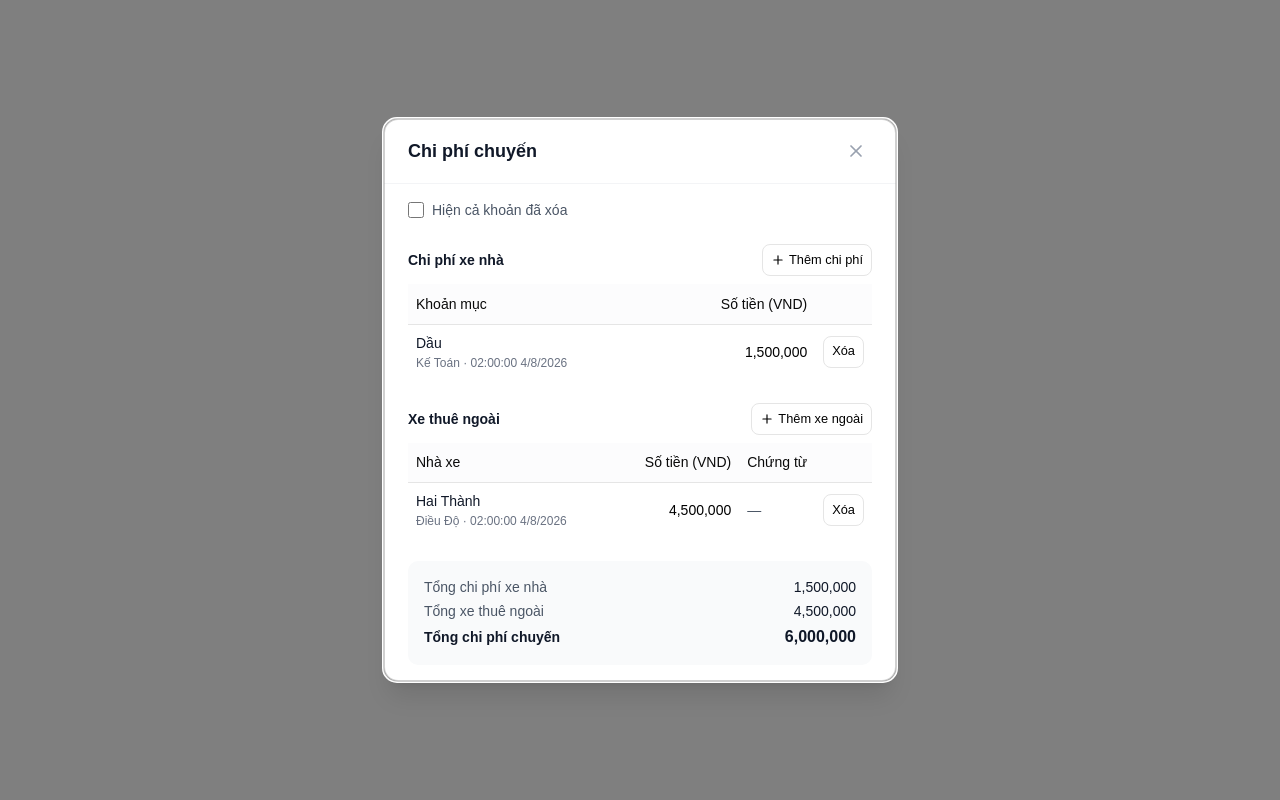
Test: TripCostModal › what it shows › ★ the add form appears in place › closes on a second click of the same button
Click the button "Thêm chi phí" at (817, 260), box [762, 244, 872, 276]
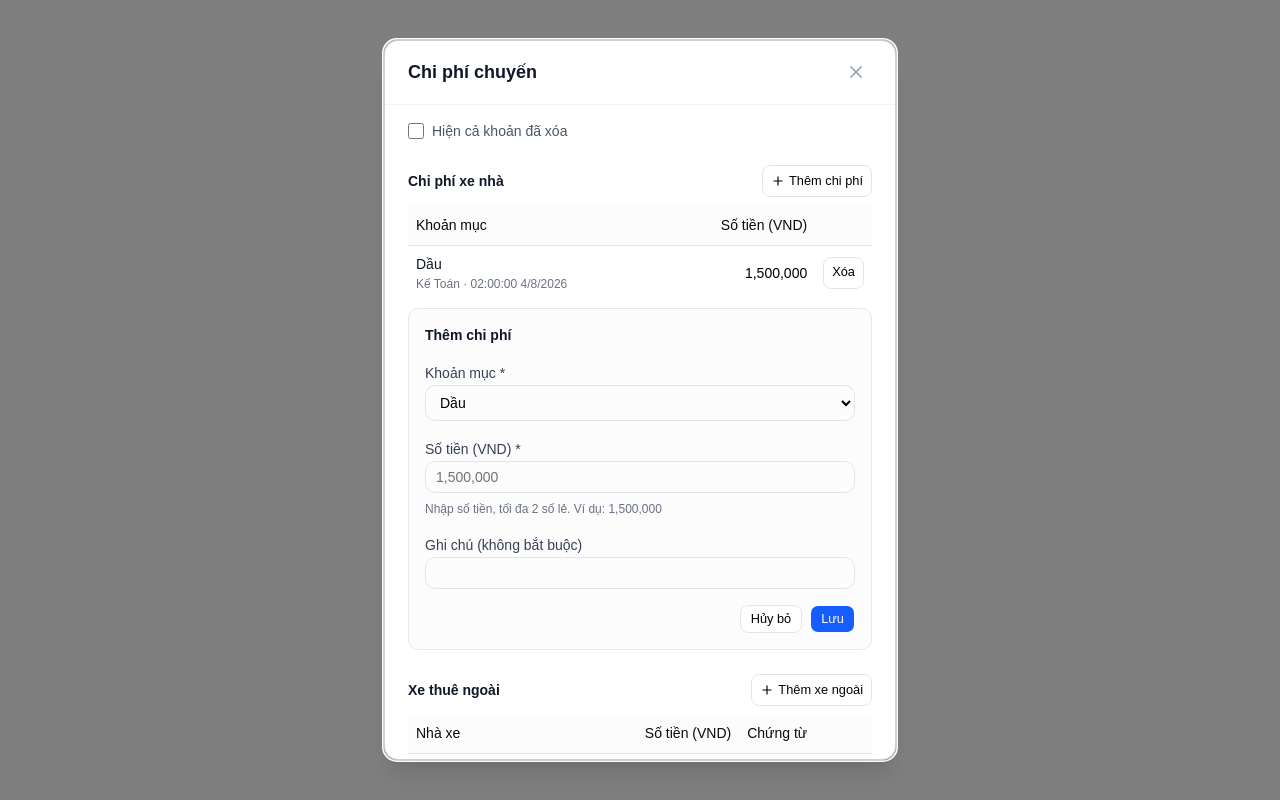
Expected: the field labelled "Số tiền (VND) *" is shown, [425, 460, 855, 492]
Click the button "Thêm chi phí" at (817, 181), box [762, 165, 872, 197]
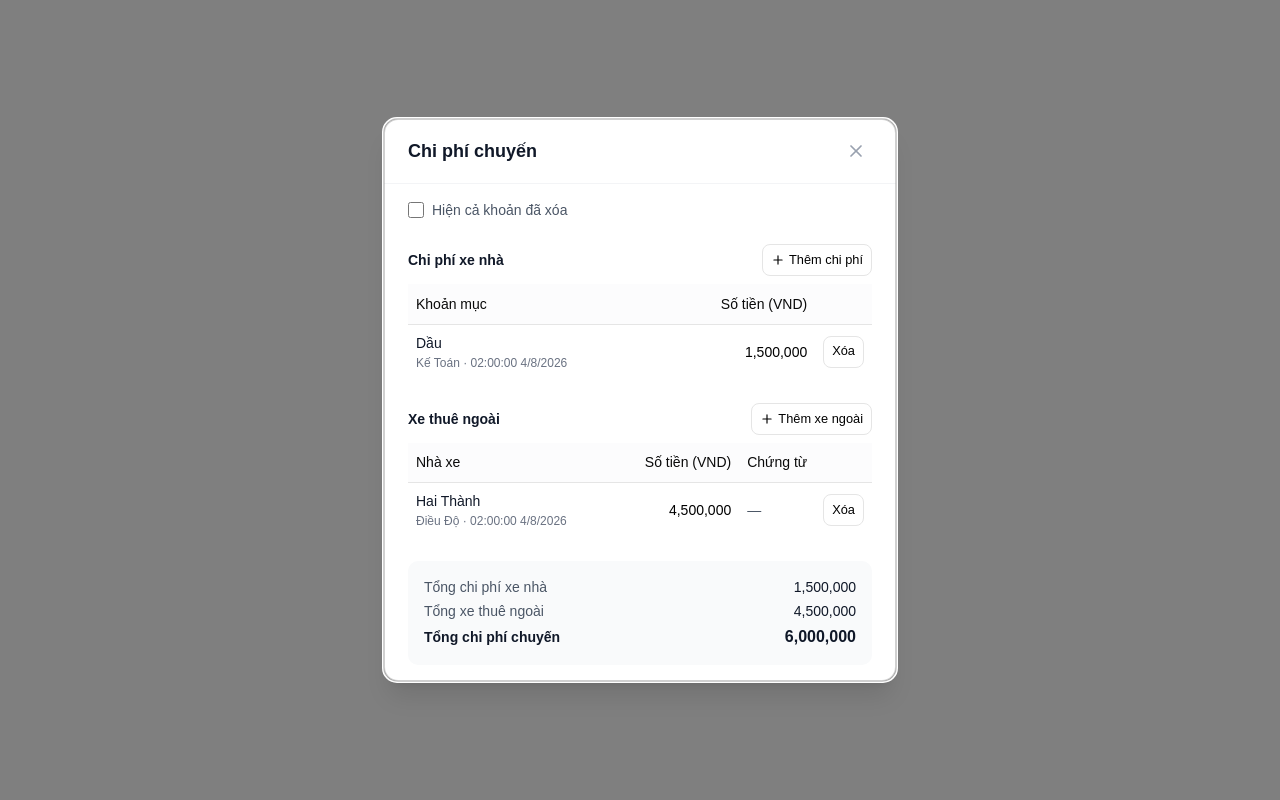
Expected: the label labelled "Số tiền (VND) *" is gone
